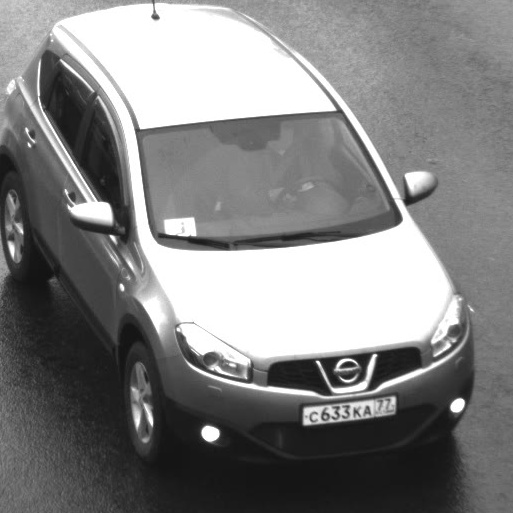plate: (292, 385, 405, 433)
